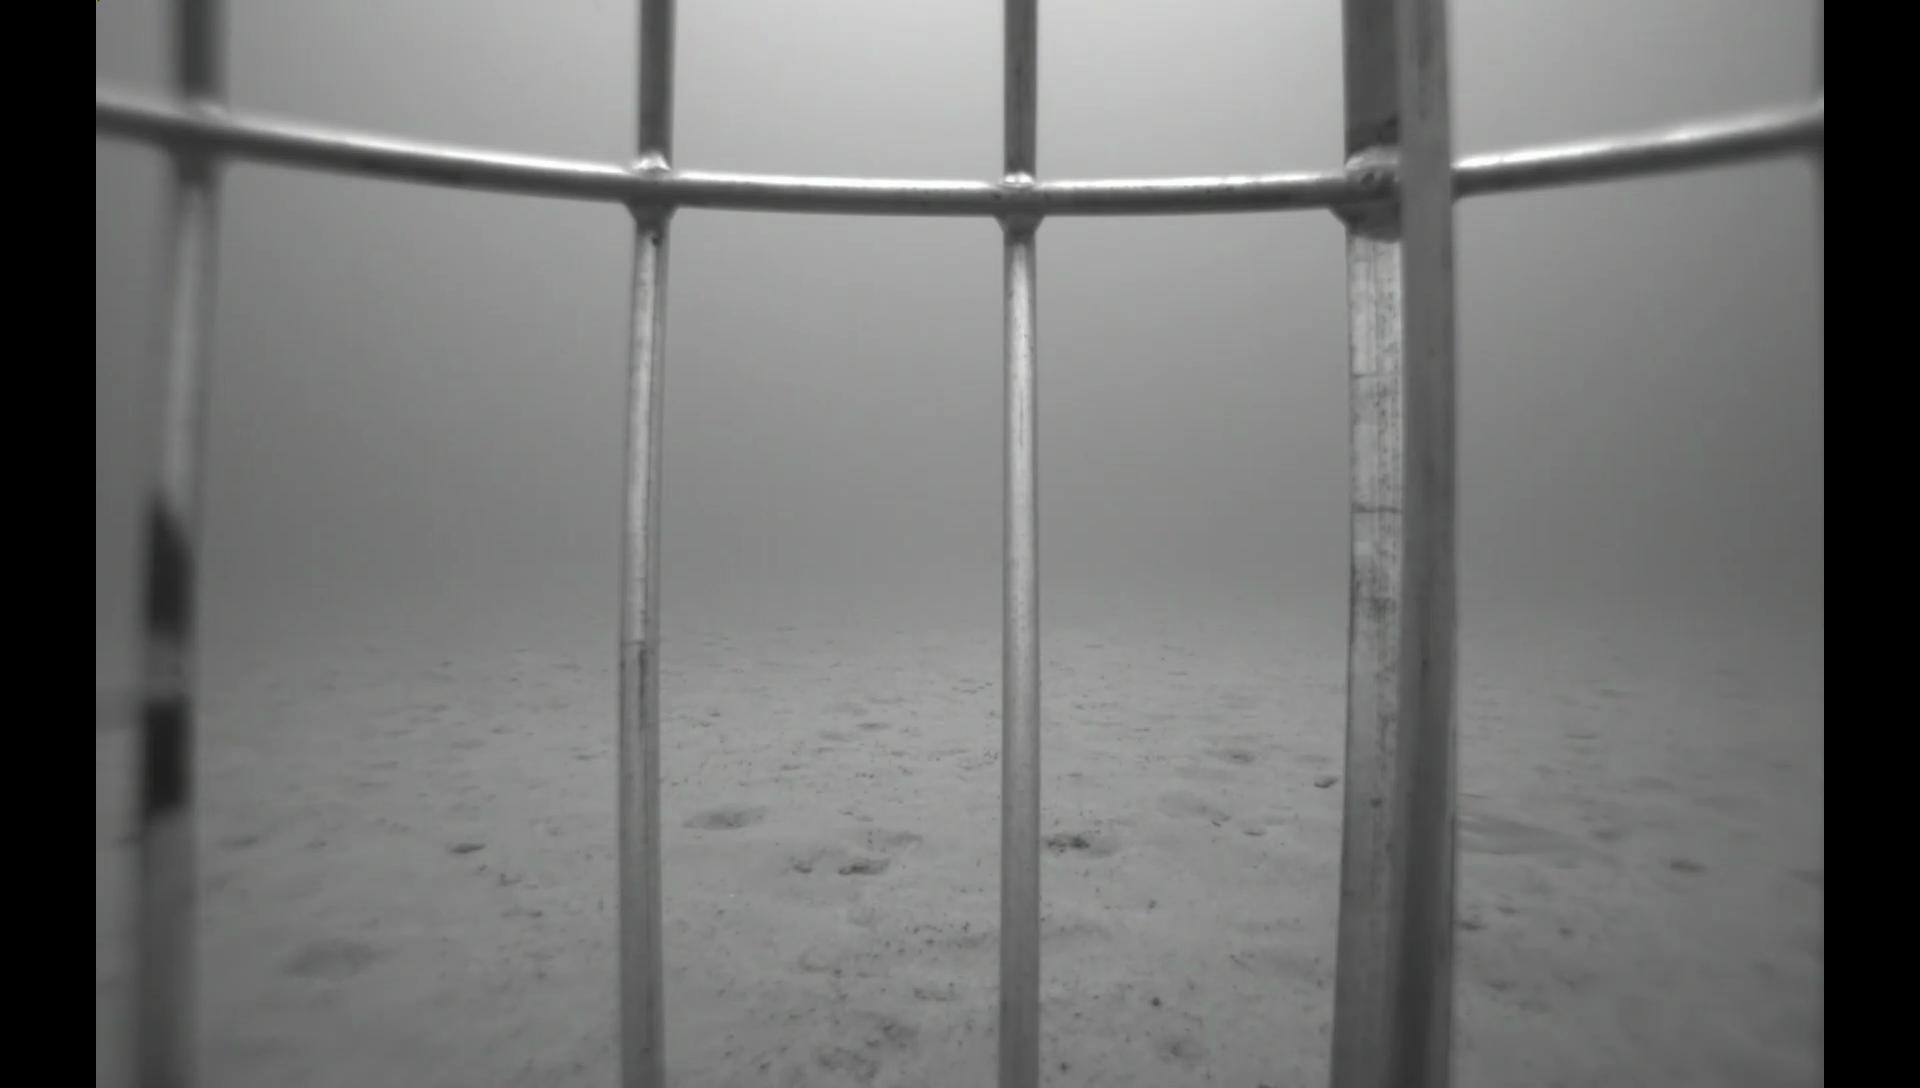CAULOLATILUSCYANOPS-170070101: (1452, 787, 1654, 886)
